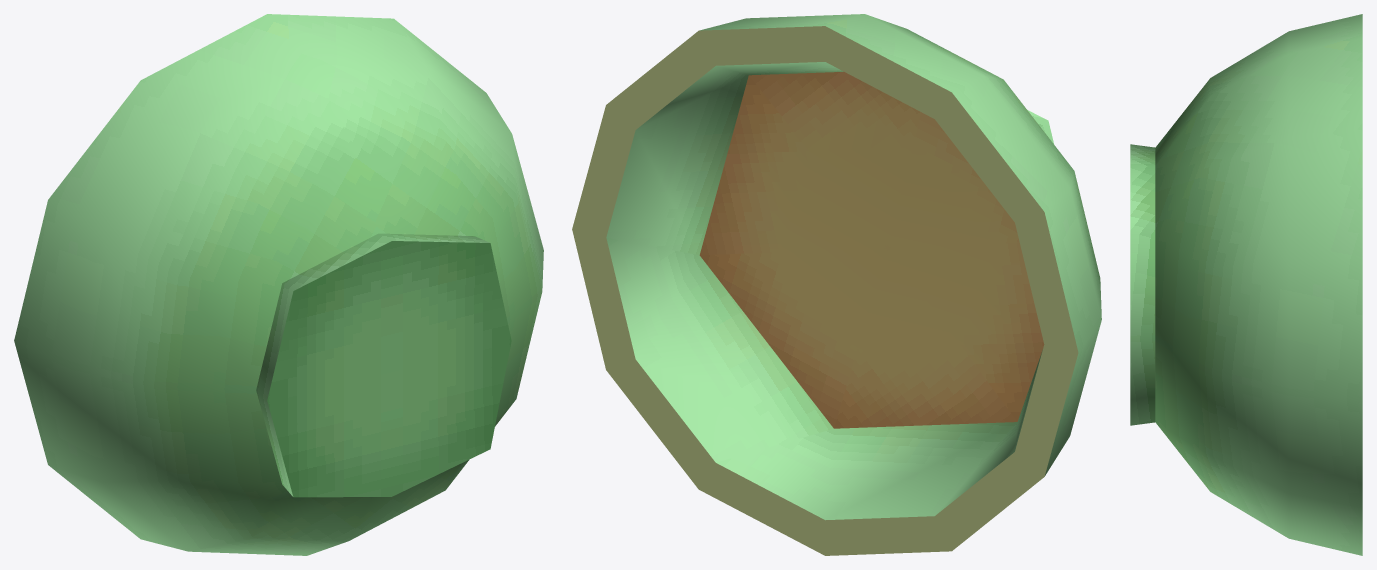
Rendered from Bowl.fbx.
3 views of the same model, side by side, from view 1: azimuth 30°, elevation 25°; view 2: azimuth 150°, elevation 25°; view 3: azimuth 270°, elevation 25° (orthographic). The views are drawn at different scales.
Parts seen in each view (by area): view 1: Bowl; view 2: Bowl; view 3: Bowl.
Boxes of the visible parts, bbox=[...] form: Bowl: bbox=[14, 14, 543, 555]; Bowl: bbox=[572, 14, 1101, 555]; Bowl: bbox=[1130, 14, 1362, 555].
Size of the model in its own units: 34.3 by 34.3 by 14.63.
